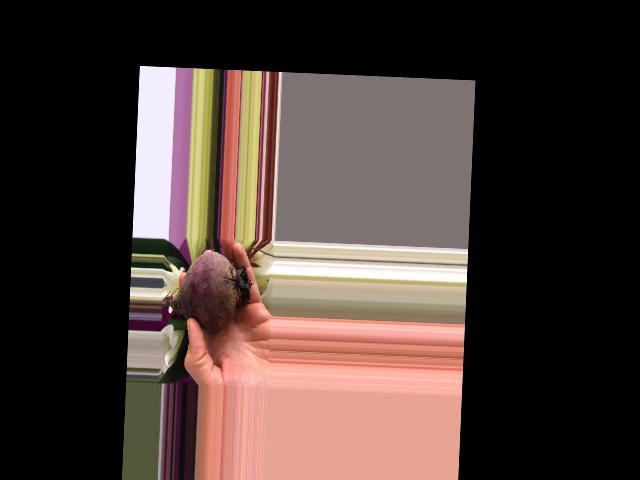beet: (160, 248, 255, 332)
